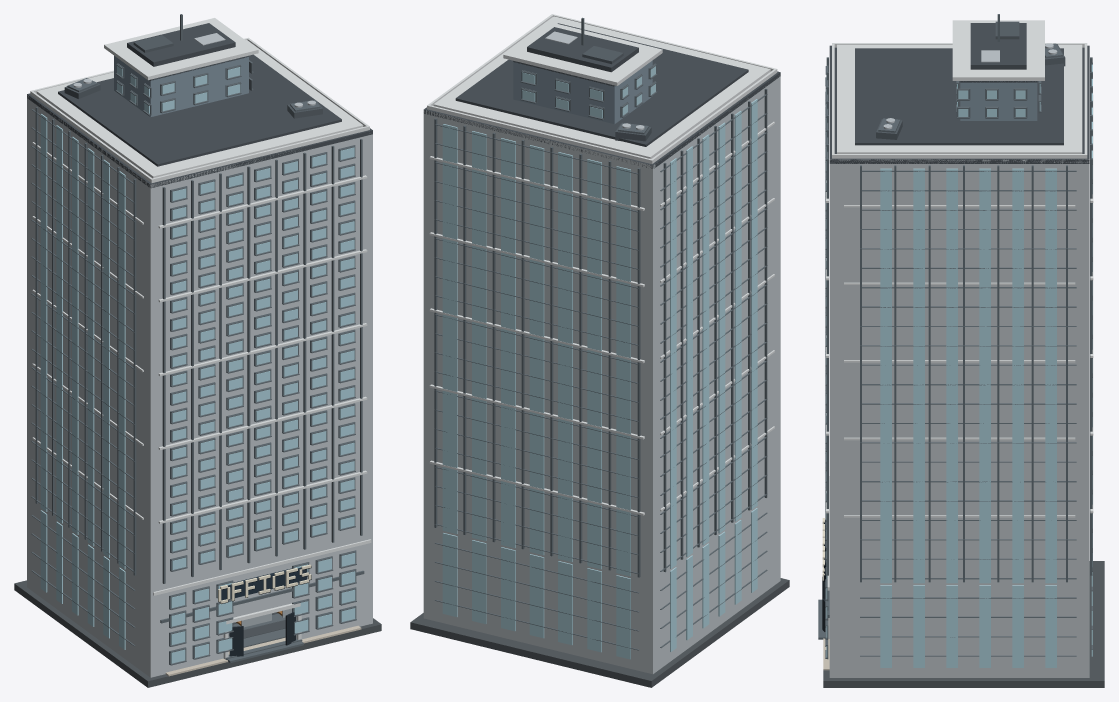
The model's file is offices-building.glb.
The picture shows the model from 3 angles, left to right: view 1: azimuth 30°, elevation 25°; view 2: azimuth 150°, elevation 25°; view 3: azimuth 270°, elevation 25°; orthographic projection. The views are drawn at different scales.
Parts seen in each view (by area): view 1: offices_cutaway_tower, offices_cutaway_roof, offices_hull_wall, offices_exterior_detail, offices_cutaway_upper, offices_foundation, offices_interior; view 2: offices_cutaway_tower, offices_cutaway_roof, offices_hull_wall, offices_exterior_detail, offices_cutaway_upper, offices_foundation; view 3: offices_cutaway_tower, offices_cutaway_roof, offices_hull_wall, offices_exterior_detail, offices_foundation, offices_cutaway_upper.
Part boxes in pixels (box(x1,y1,x2,y2)): offices_cutaway_tower: box(27, 95, 372, 587); offices_cutaway_roof: box(27, 14, 372, 188); offices_hull_wall: box(27, 498, 372, 677); offices_exterior_detail: box(31, 510, 371, 665); offices_cutaway_upper: box(114, 55, 253, 117); offices_foundation: box(14, 580, 381, 687); offices_interior: box(228, 608, 291, 647); offices_cutaway_tower: box(423, 76, 780, 581); offices_cutaway_roof: box(424, 14, 780, 168); offices_hull_wall: box(423, 488, 780, 674); offices_exterior_detail: box(434, 508, 767, 659); offices_cutaway_upper: box(513, 60, 657, 124); offices_foundation: box(410, 578, 789, 687); offices_cutaway_tower: box(825, 57, 1093, 583); offices_cutaway_roof: box(829, 14, 1089, 163); offices_hull_wall: box(829, 584, 1089, 677); offices_exterior_detail: box(822, 476, 1092, 667); offices_foundation: box(818, 561, 1104, 687); offices_cutaway_upper: box(956, 81, 1041, 120).
Bounding box in the file's own units: 22.8 × 54.41 × 23.
